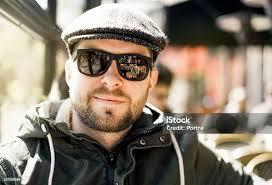cap: (59, 0, 178, 55)
sunglasses: (71, 45, 157, 83)
